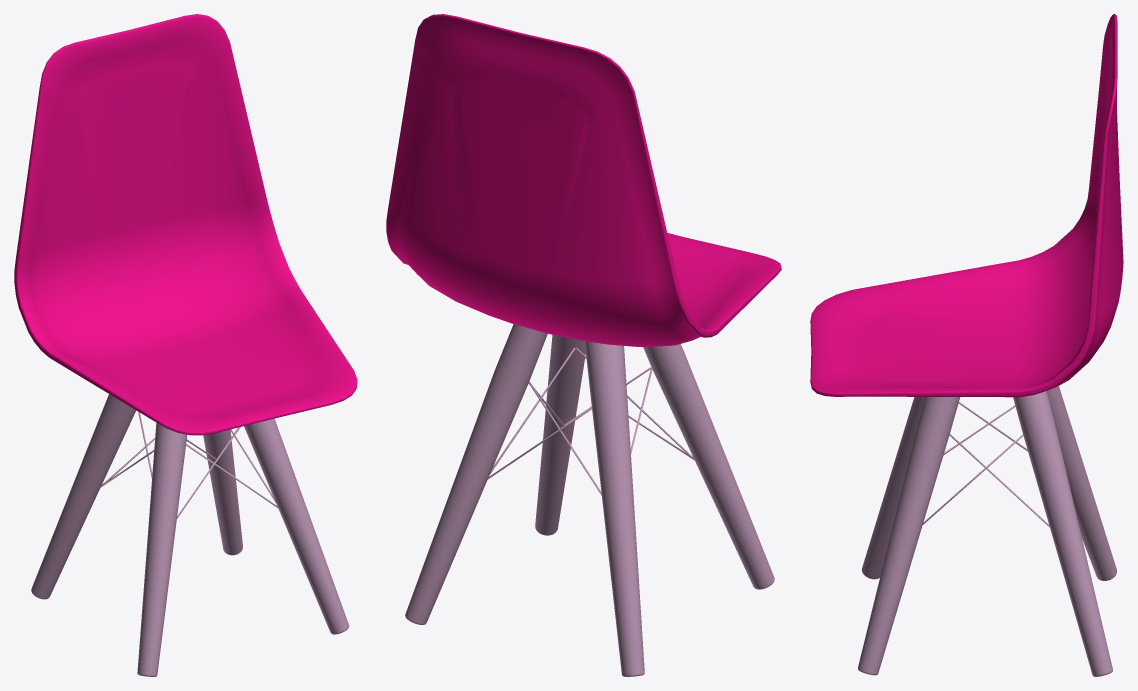
File: sedia_cameretta_fix.fbx
The picture shows the model from 3 angles, left to right: view 1: azimuth 30°, elevation 25°; view 2: azimuth 150°, elevation 25°; view 3: azimuth 270°, elevation 25°; orthographic projection. The views are drawn at different scales.
Parts seen in each view (by area): view 1: Sedia_Cameretta; view 2: Sedia_Cameretta; view 3: Sedia_Cameretta.
Boxes of the visible parts, x1,y1,x2,y2 form: Sedia_Cameretta: [14, 14, 357, 676]; Sedia_Cameretta: [386, 14, 781, 676]; Sedia_Cameretta: [810, 14, 1123, 676].
Bounding box in the file's own units: 41.6 × 82.96 × 40.76.
